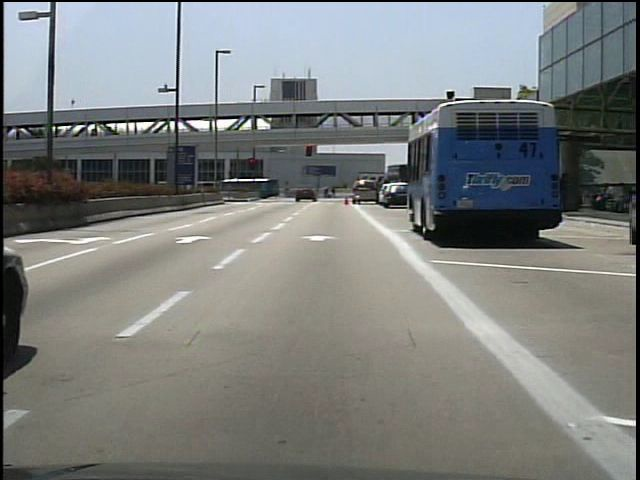person: (594, 182, 615, 210), (323, 186, 335, 201), (329, 185, 339, 200), (563, 175, 564, 210)
